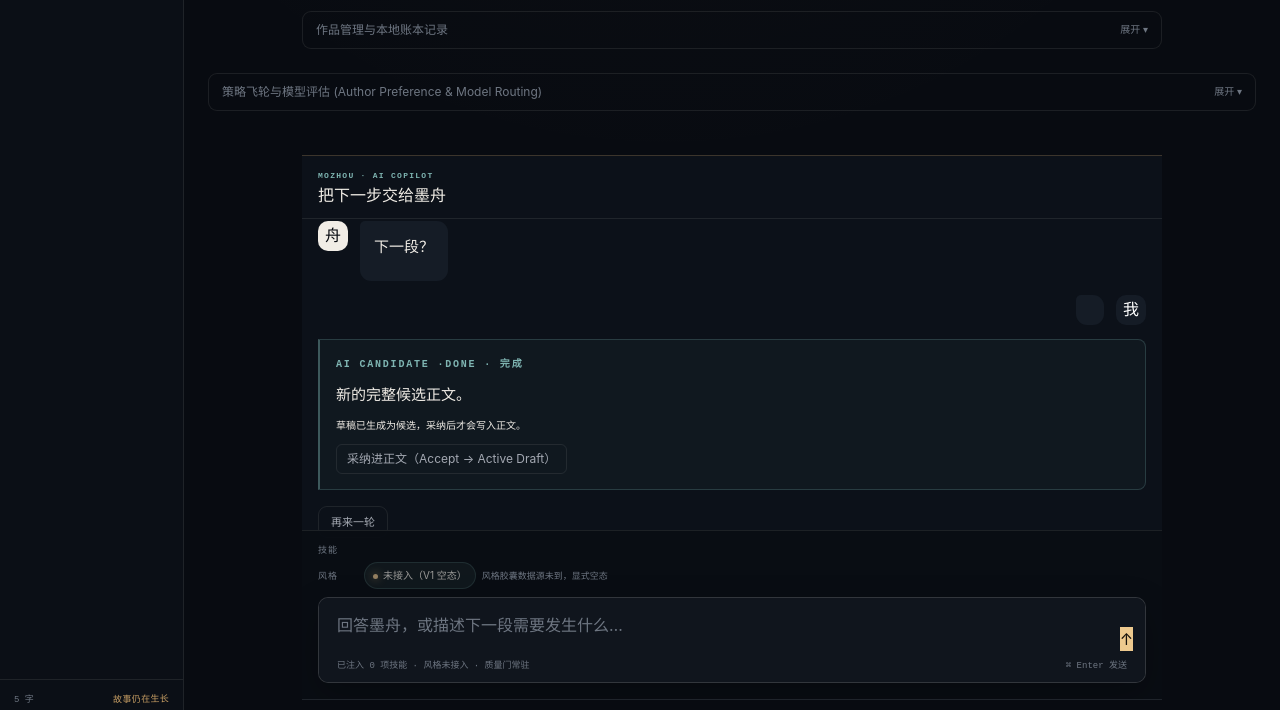
Test: AI 采纳后的全局状态 › 采纳与撤销无需刷新页面，顶部版本与目录字数都跟随服务器正文
(page scrolled)
Click the button with test id "adopt-into-slate" at (452, 459), box [336,444,567,474]
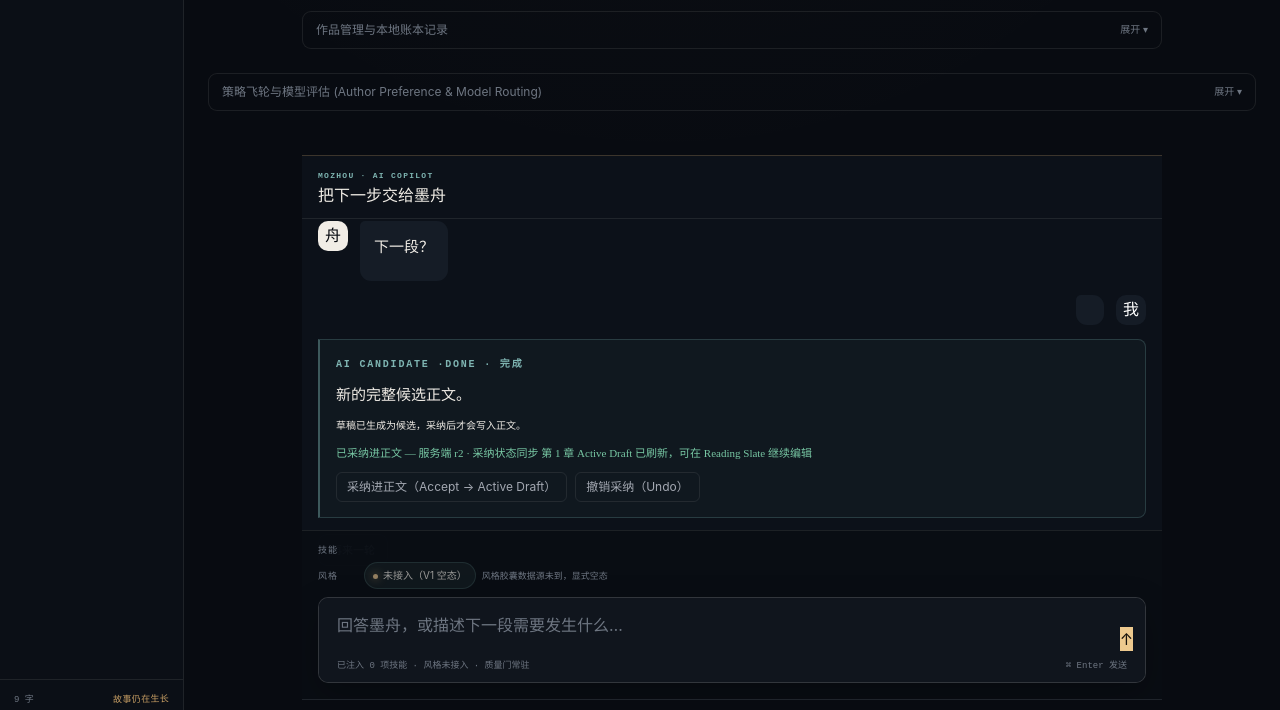
Click the button with test id "undo-accept" at (638, 487), box [575,472,700,502]
(page scrolled)
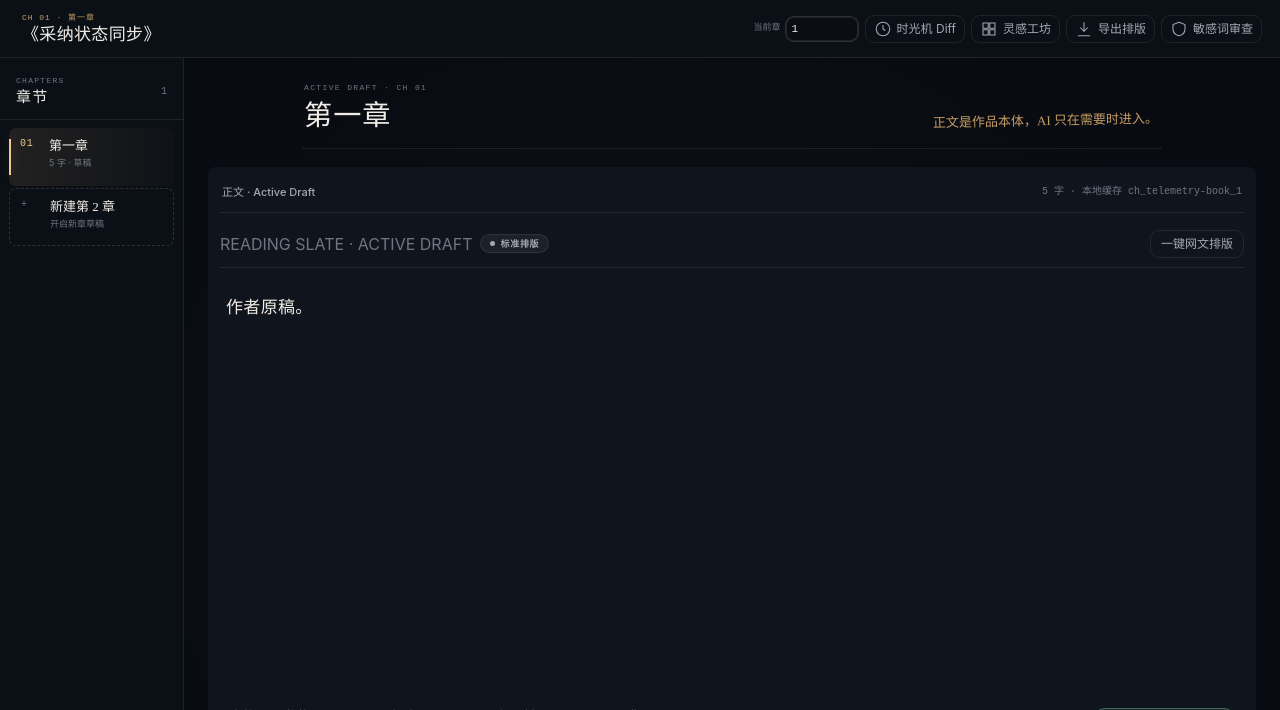
Result: the field named "章节正文编辑区" reads "作者原稿。" at [226,298,313,317]
Result: the button "01 第一章 5 字 · 草稿" is shown at [9,128,174,186]
